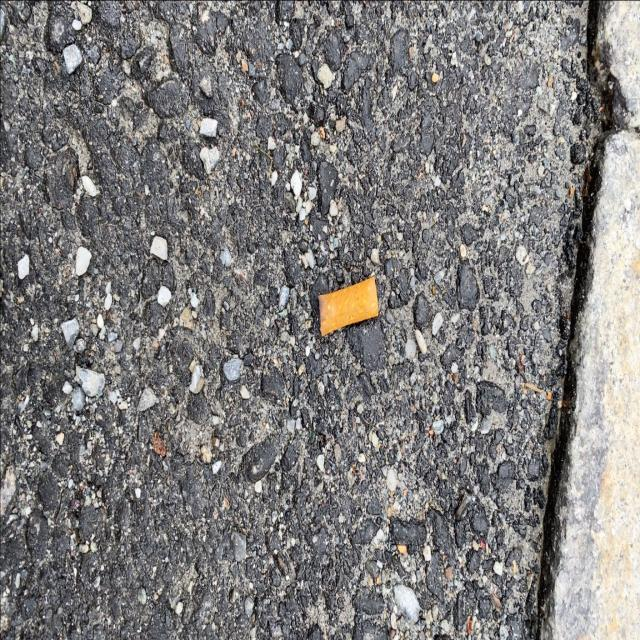other waste: (317, 274, 379, 338)
